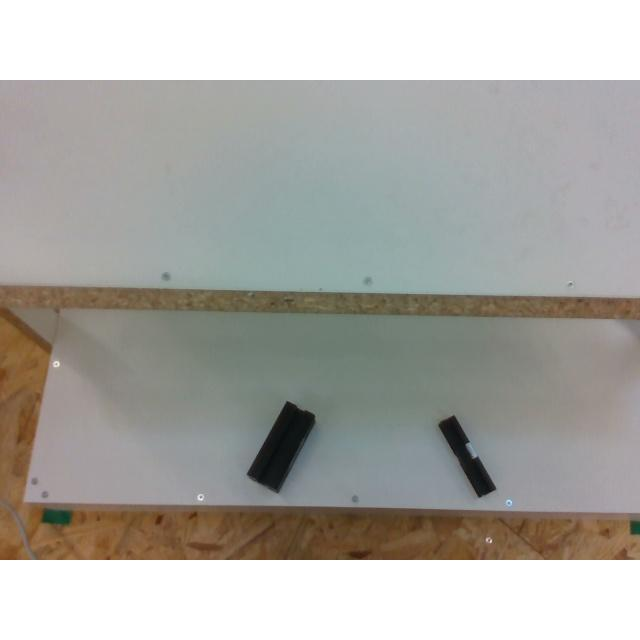F20_20_B: (438, 416, 494, 496)
S40_40_B: (246, 401, 314, 492)
